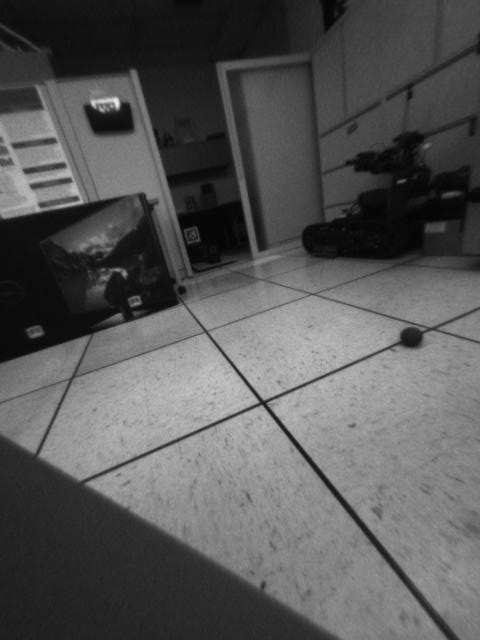dogtoy: (392, 319, 430, 356)
